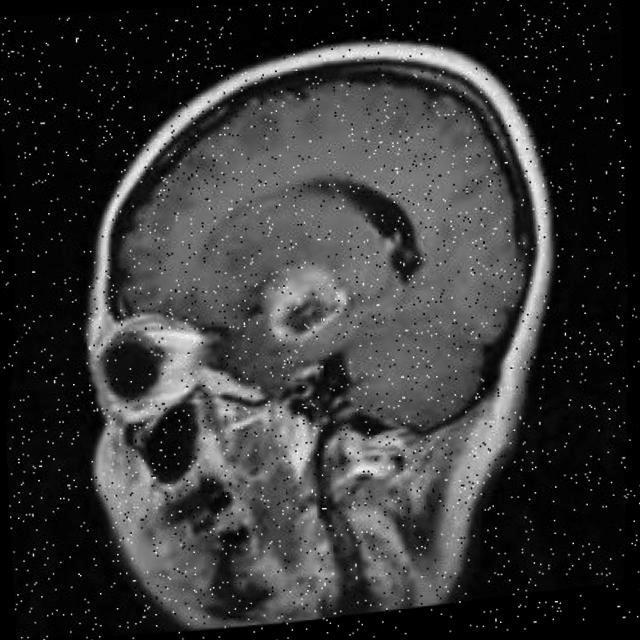EMCI: (200, 222, 438, 350)
